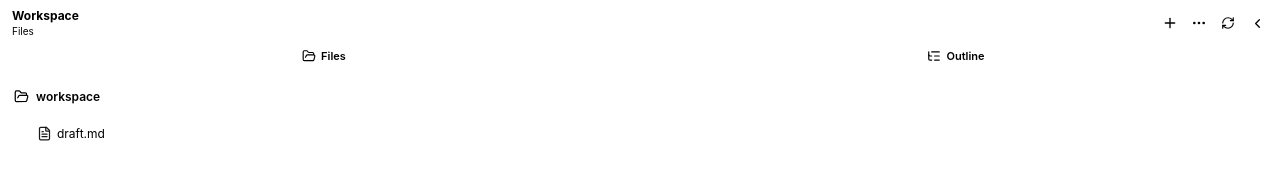
Test: FileSidebar native workspace interactions › offers rename, move, and Move to Trash from the selected-entry action menu
Click the button named "More actions for draft.md": (1199, 23) top-left (1185, 9), bottom-right (1213, 37)
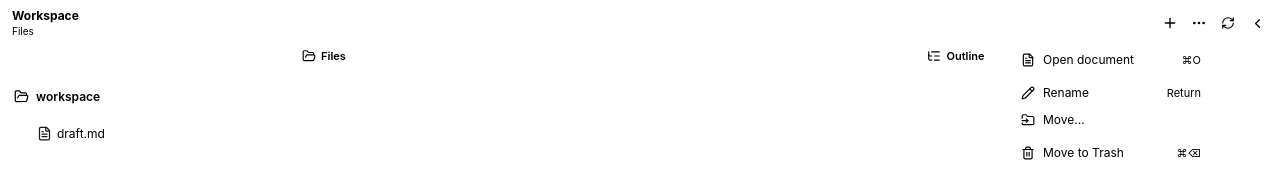
Result: the menu shows "Rename" at top-left (1014, 79), bottom-right (1208, 106)
Result: the menu shows "Move…" at top-left (1014, 106), bottom-right (1208, 133)
Result: the menu shows "Move to Trash" at top-left (1014, 139), bottom-right (1208, 166)
